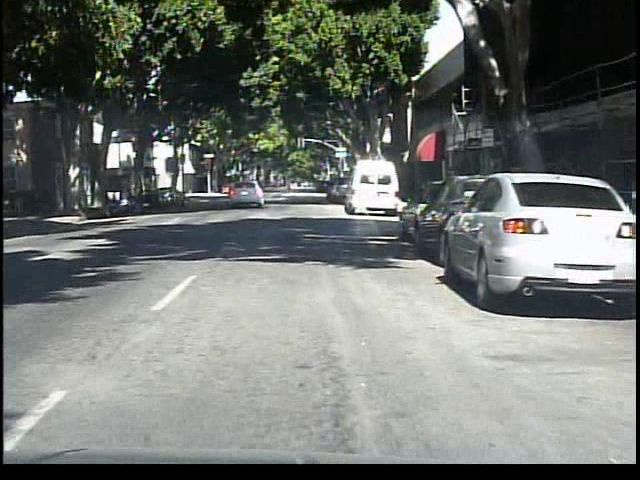person: (277, 169, 297, 201)
